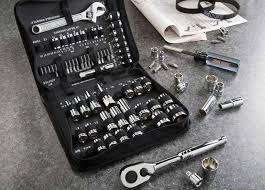wrench: (117, 133, 225, 188), (30, 1, 105, 34)
